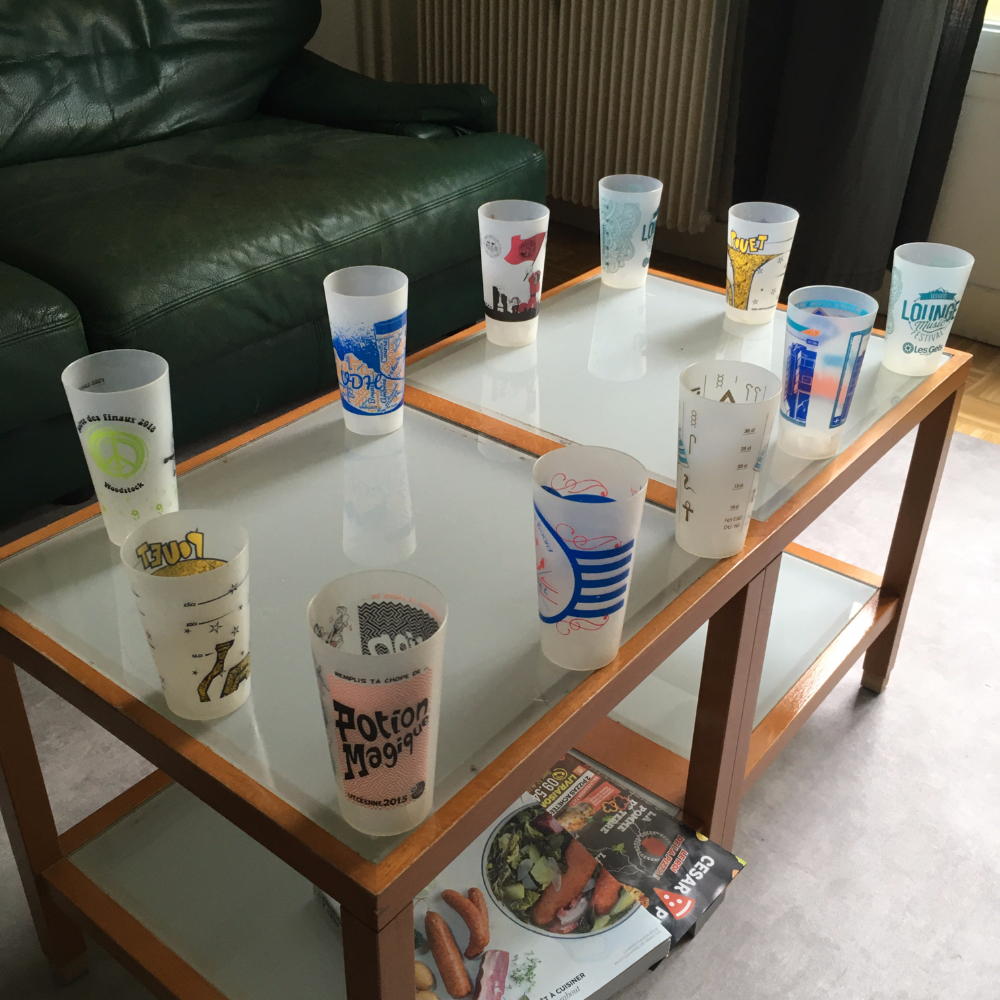ecocup: (307, 570, 447, 837), (120, 510, 251, 720), (532, 446, 648, 671), (60, 348, 179, 546), (674, 361, 782, 558), (775, 285, 879, 460), (322, 265, 409, 436), (883, 241, 974, 376), (477, 199, 551, 346), (724, 201, 799, 324), (597, 175, 664, 289)
